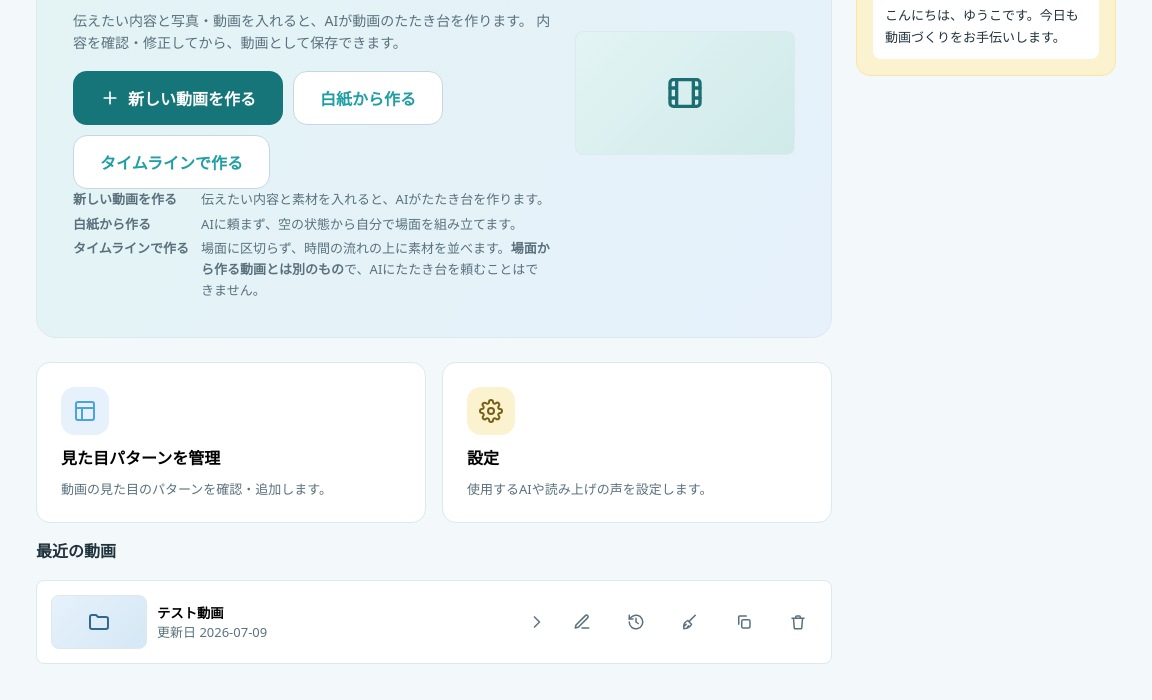
HomeScreen プロジェクトを開く busy（#392） › 開いている間は「開いています…」＋カード無効（後勝ち防止）
(page scrolled)
Step 1. Click the button "テスト動画 更新日 2026-07-09" → (99, 622), box [51,595,547,649]
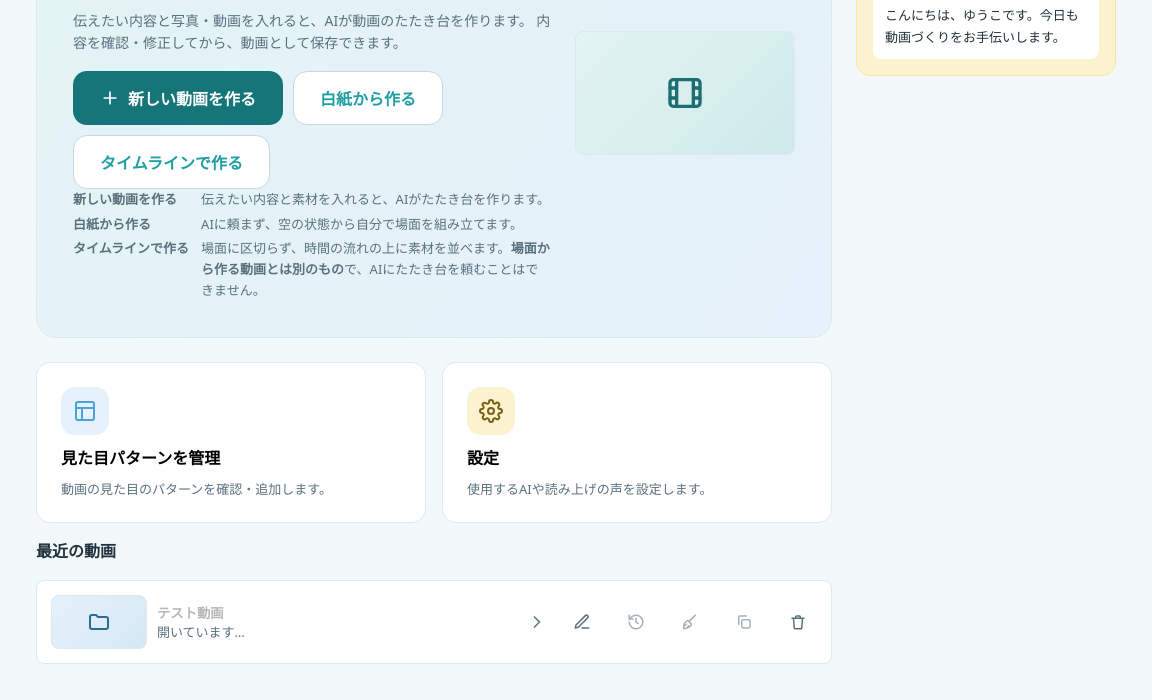
Check: the text "開いています…" is shown, box [157,623,245,641]
Check: the button "テスト動画 開いています…" is disabled, box [51,595,547,649]
